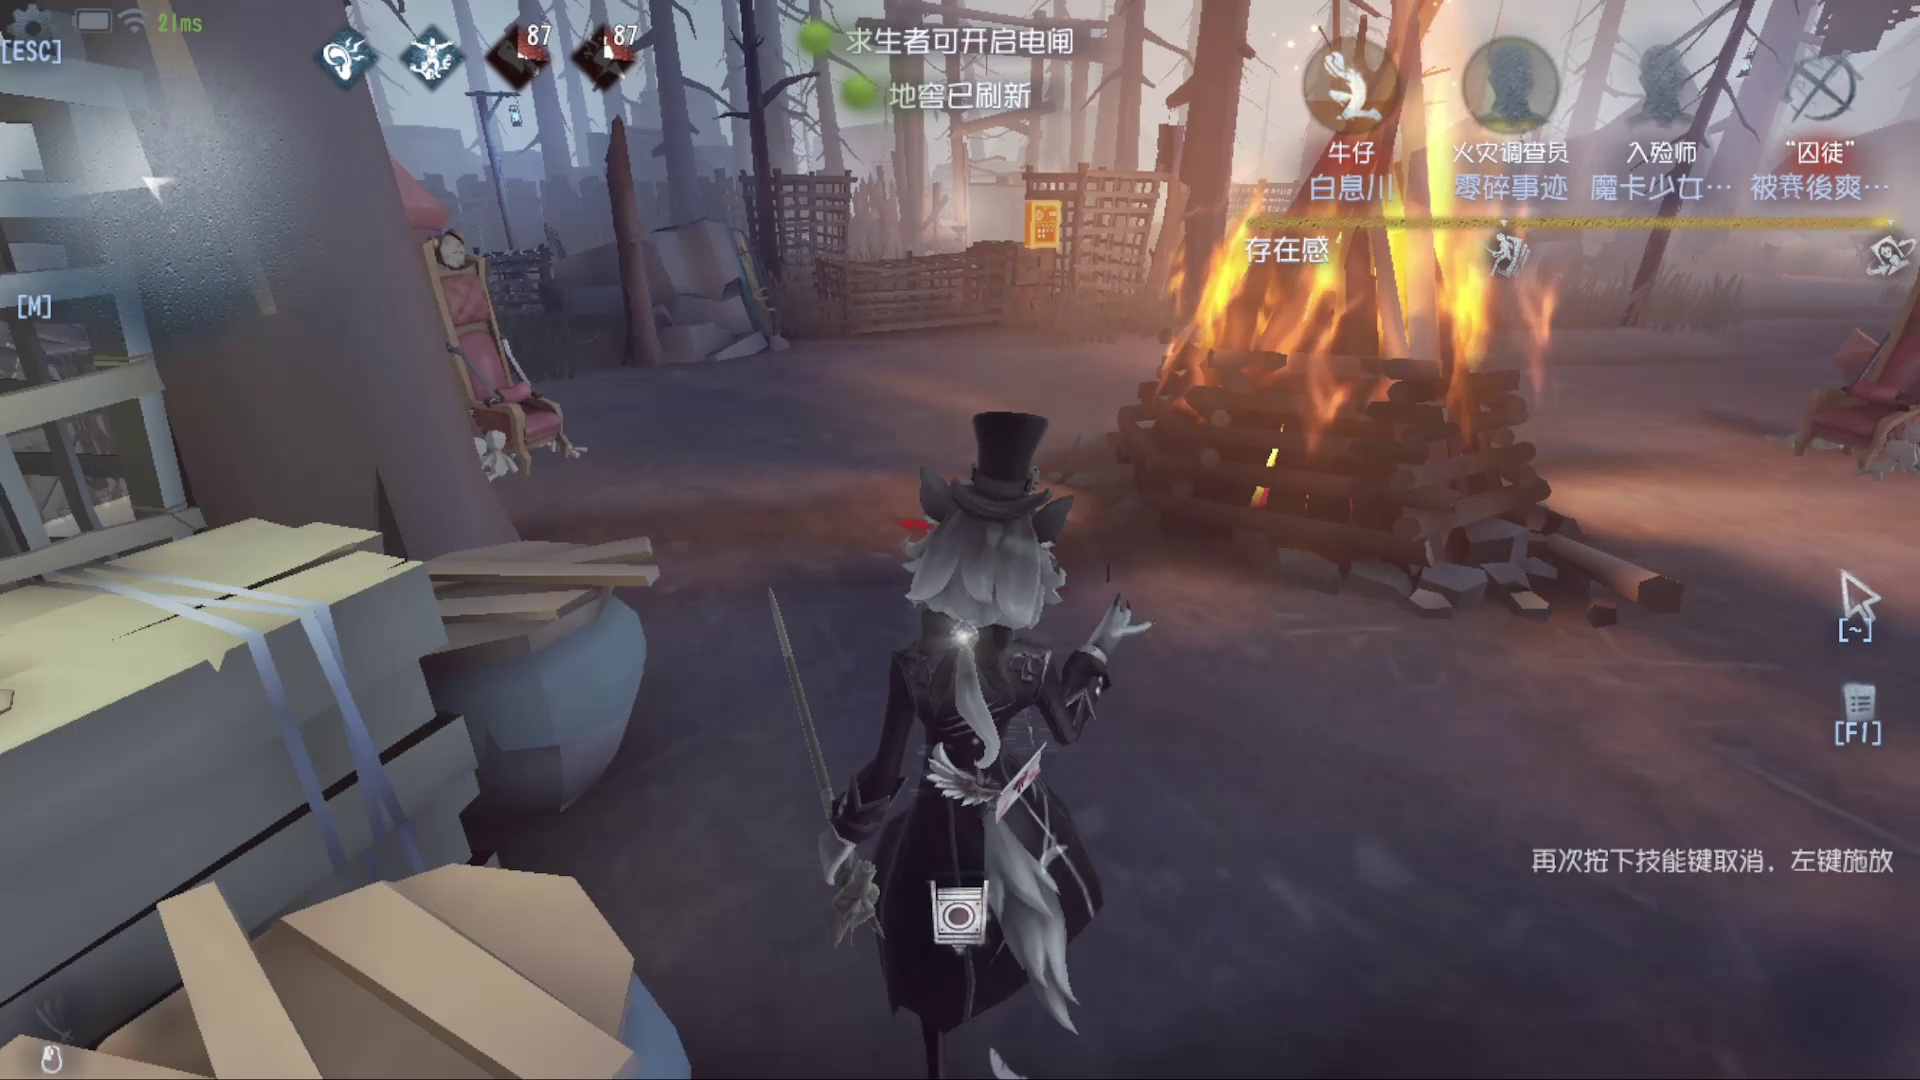木板: (719, 232, 812, 356)
狂欢之椅: (365, 156, 568, 495)
